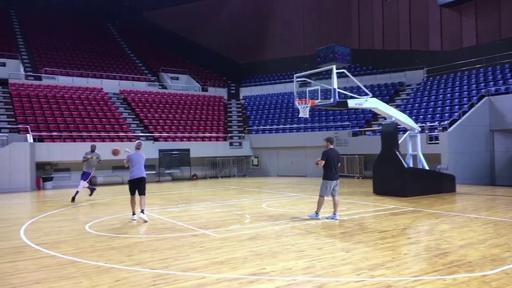ball: (112, 147, 120, 157)
human: (308, 137, 341, 220), (124, 140, 148, 222), (70, 144, 102, 204)
rim: (296, 98, 314, 118)
